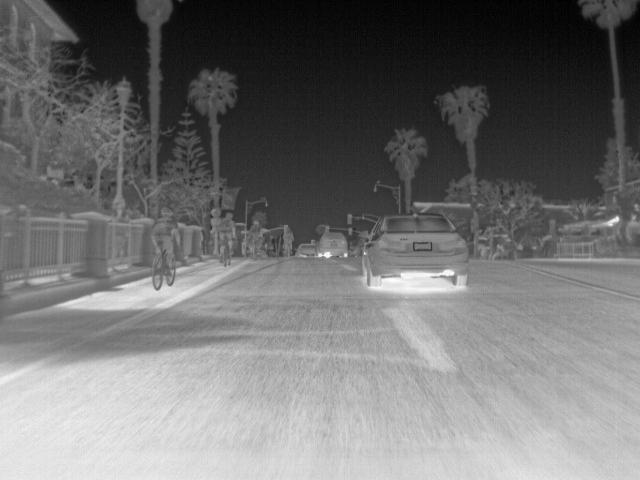car: (359, 211, 471, 289), (312, 228, 354, 260), (294, 243, 321, 259)
person: (149, 213, 180, 274), (215, 214, 237, 257), (244, 218, 265, 258), (282, 225, 298, 258)
